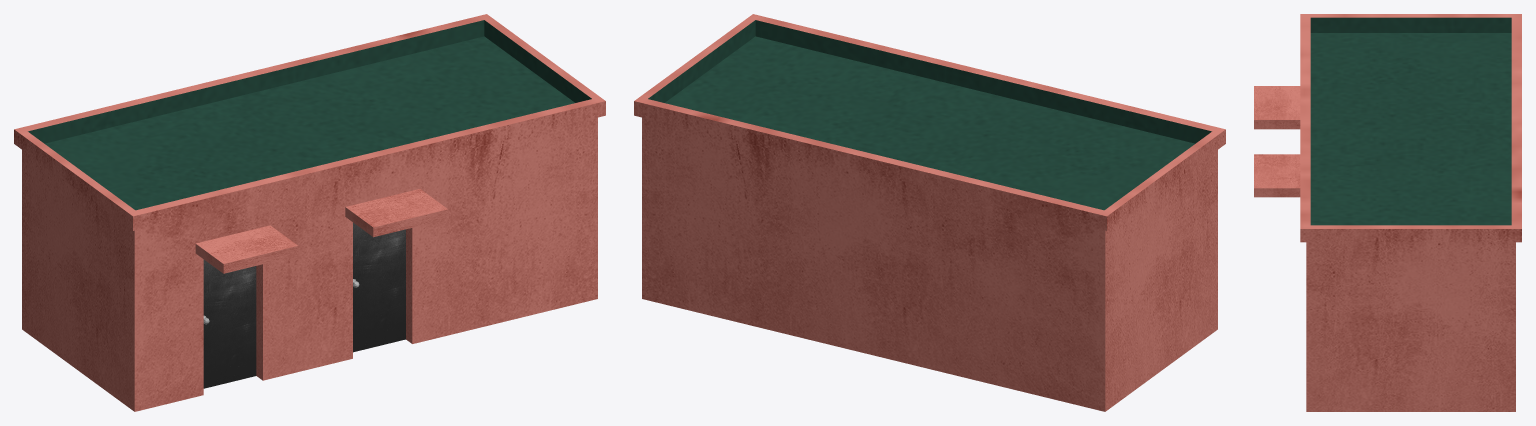
The model's file is Roof_Entrance_001.fbx.
3 views of the same model, side by side, from view 1: azimuth 30°, elevation 25°; view 2: azimuth 150°, elevation 25°; view 3: azimuth 270°, elevation 25° (orthographic). The views are drawn at different scales.
Parts seen in each view (by area): view 1: Roof_Entrance_001; view 2: Roof_Entrance_001; view 3: Roof_Entrance_001.
Boxes of the visible parts, x1,y1,x2,y2 form: Roof_Entrance_001: (14,14,605,411); Roof_Entrance_001: (634,14,1225,411); Roof_Entrance_001: (1254,14,1521,411).
Bounding box in the file's own units: 778 × 313 × 410.
Materials: 2 (2 with a texture image).
